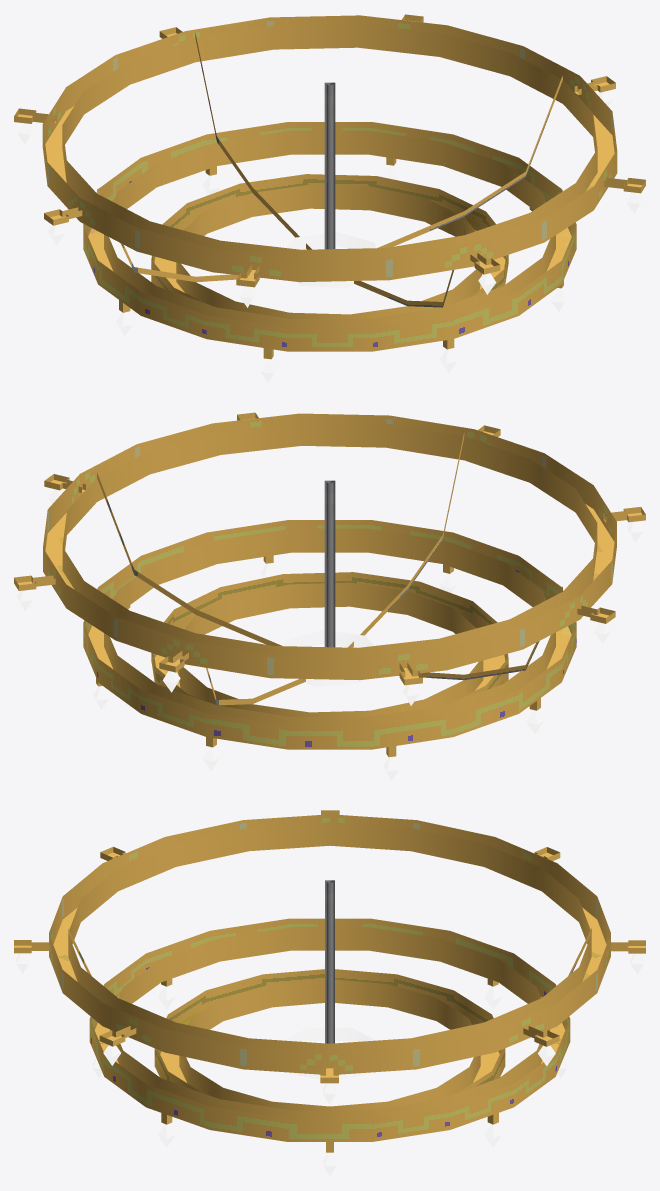
The model's file is lustra.glb.
The picture shows the model from 3 angles, top to bottom: view 1: azimuth 30°, elevation 25°; view 2: azimuth 150°, elevation 25°; view 3: azimuth 270°, elevation 25°; orthographic projection. The views are drawn at different scales.
Parts seen in each view (by area): view 1: Cylinder002, Cylinder001; view 2: Cylinder002, Cylinder001; view 3: Cylinder002, Cylinder001.
Part boxes in pixels (left/top/right/bottom): Cylinder002: left=14, top=14, right=645, bottom=359; Cylinder001: left=285, top=232, right=375, bottom=288; Cylinder002: left=14, top=412, right=645, bottom=757; Cylinder001: left=284, top=630, right=374, bottom=686; Cylinder002: left=14, top=810, right=645, bottom=1152; Cylinder001: left=284, top=1027, right=375, bottom=1079.
Bounding box in the file's own units: 3.2 × 1.1 × 3.2.
2 materials, 1 textured.
